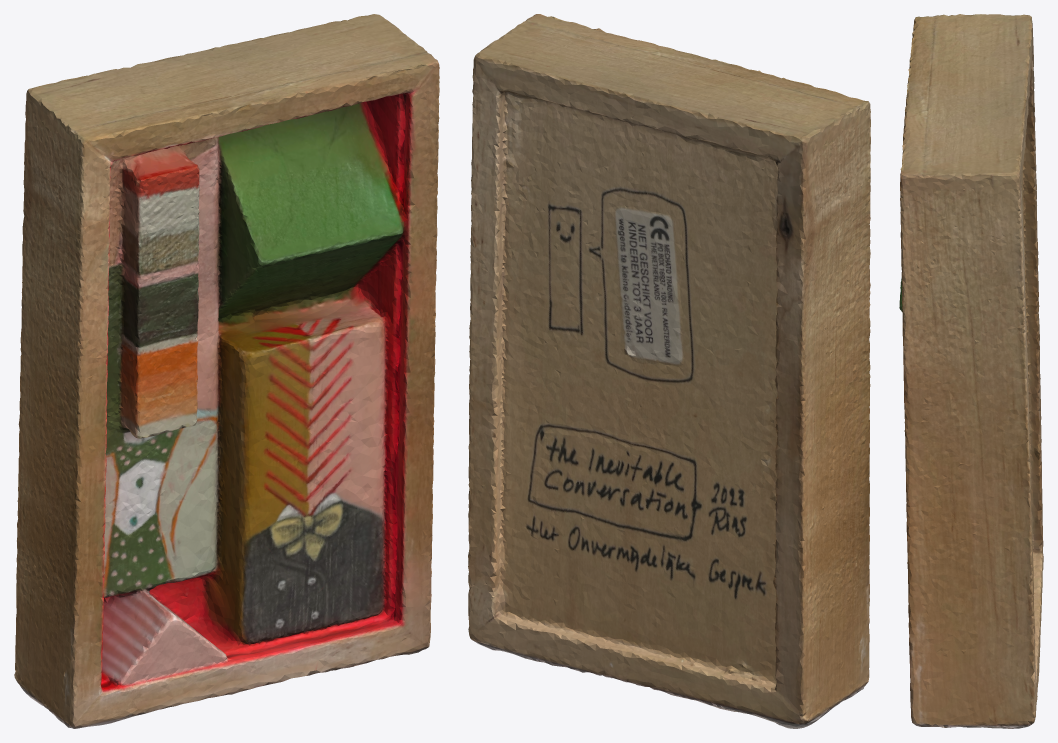
Rendered from Inevitable_conversation.fbx.
3 renders of one model, left to right at view 1: azimuth 30°, elevation 25°; view 2: azimuth 150°, elevation 25°; view 3: azimuth 270°, elevation 25°, orthographic. The views are drawn at different scales.
Parts seen in each view (by area): view 1: Object; view 2: Object; view 3: Object.
Boxes of the visible parts, left/top/right/bottom form: Object: left=14, top=14, right=439, bottom=728; Object: left=468, top=14, right=870, bottom=728; Object: left=899, top=14, right=1043, bottom=728.
Bounding box in the file's own units: 10.21 × 16.63 × 3.83.
1 material, 1 textured.
